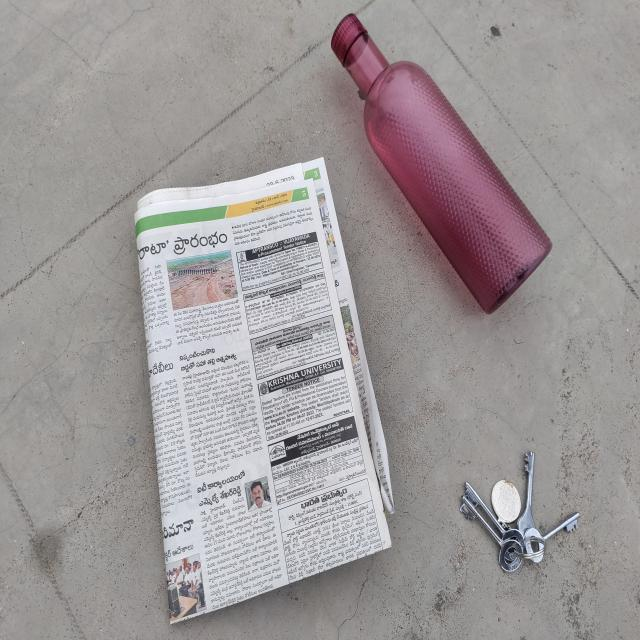dry: (128, 159, 375, 625), (334, 7, 572, 312), (450, 407, 591, 595)
